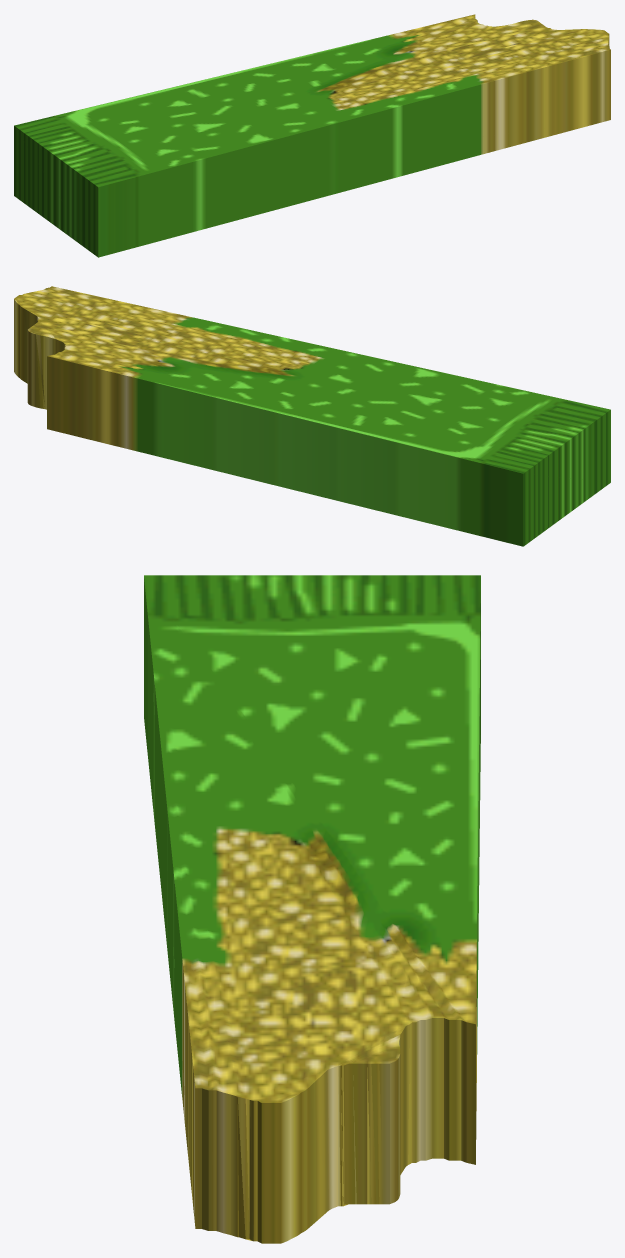
Rendered from InvCandy.glb.
3 views of the same model, one above another, from view 1: azimuth 30°, elevation 25°; view 2: azimuth 150°, elevation 25°; view 3: azimuth 270°, elevation 25° (orthographic). The views are drawn at different scales.
Visible parts, largest first — view 1: InvCandy; view 2: InvCandy; view 3: InvCandy.
Boxes of the visible parts, x1=… form: InvCandy: x1=14, y1=14, x2=610, y2=257; InvCandy: x1=14, y1=286, x2=610, y2=546; InvCandy: x1=144, y1=575, x2=480, y2=1243.
Bounding box in the file's own units: 53.63 × 6.67 × 14.5.
1 material, 1 textured.
